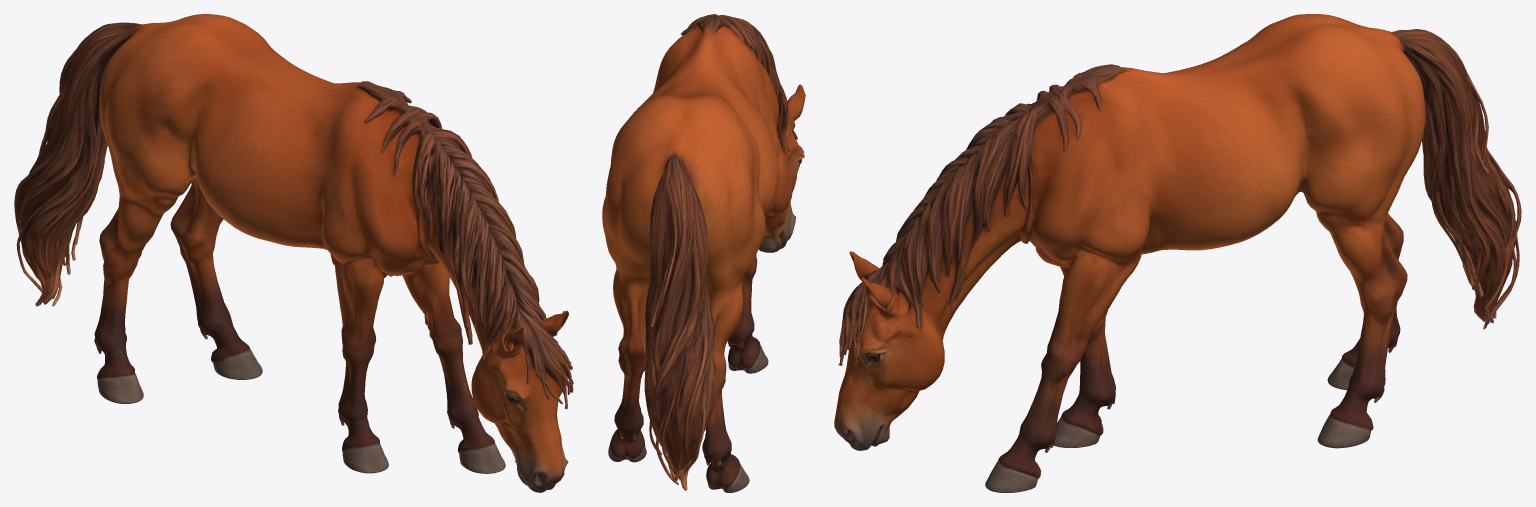
File: horse-tripo.glb
The picture shows the model from 3 angles, left to right: view 1: azimuth 30°, elevation 25°; view 2: azimuth 150°, elevation 25°; view 3: azimuth 270°, elevation 25°; orthographic projection. The views are drawn at different scales.
Visible parts, largest first — view 1: tripo_node_d81b05cc-7b06-4e5a-8807-87273b36a554; view 2: tripo_node_d81b05cc-7b06-4e5a-8807-87273b36a554; view 3: tripo_node_d81b05cc-7b06-4e5a-8807-87273b36a554.
Part boxes in pixels (x1,y1,x2,y2): tripo_node_d81b05cc-7b06-4e5a-8807-87273b36a554: (14, 14, 573, 492); tripo_node_d81b05cc-7b06-4e5a-8807-87273b36a554: (602, 14, 805, 492); tripo_node_d81b05cc-7b06-4e5a-8807-87273b36a554: (834, 14, 1521, 492).
Bounding box in the file's own units: 0.4496 × 0.6152 × 0.9788.
Materials: 1 (1 with a texture image).
